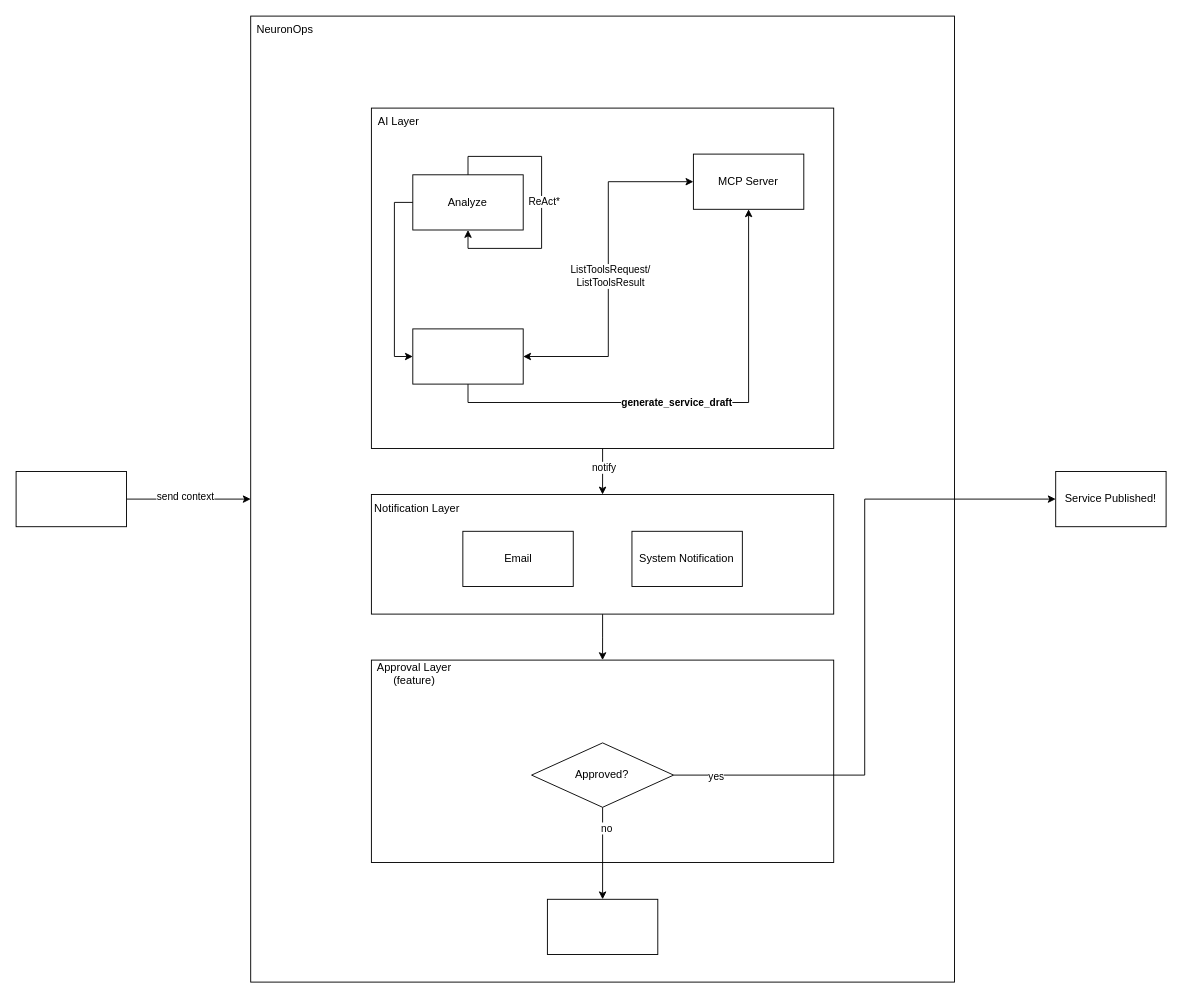
This 1182x998 diagram has some shape labels left out. Each missing label, with the box of its shape:
Admin: (15, 471, 126, 527)
MCP Client: (412, 328, 523, 384)
Service Descard: (546, 898, 658, 954)
